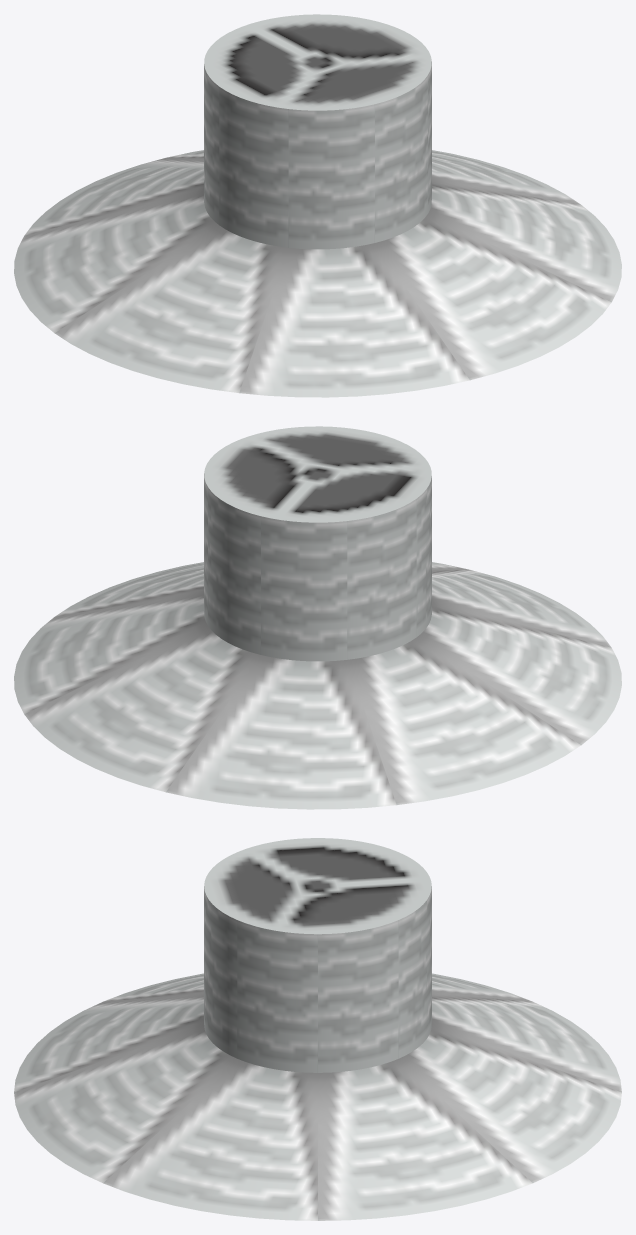
The model's file is apollom.obj.
3 renders of one model, top to bottom at view 1: azimuth 30°, elevation 25°; view 2: azimuth 150°, elevation 25°; view 3: azimuth 270°, elevation 25°, orthographic.
Visible parts, largest first — view 1: ColobotMesh_1_ColobotMesh_; view 2: ColobotMesh_1_ColobotMesh_; view 3: ColobotMesh_1_ColobotMesh_.
Boxes of the visible parts, x1,y1,x2,y2 form: ColobotMesh_1_ColobotMesh_: [14, 14, 621, 397]; ColobotMesh_1_ColobotMesh_: [14, 426, 621, 809]; ColobotMesh_1_ColobotMesh_: [14, 838, 621, 1220].
Size of the model in its own units: 8.01 by 3 by 8.01.
